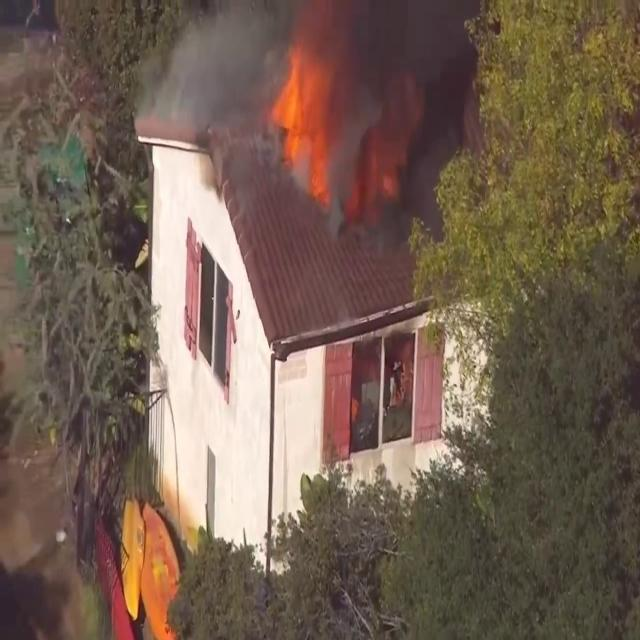Fire: (276, 30, 342, 218)
Smoke: (148, 0, 481, 257)
